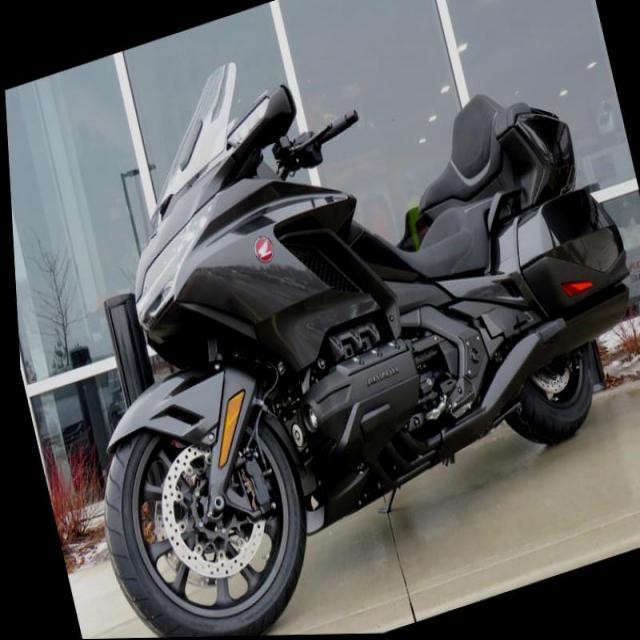Gold Wing: (6, 0, 639, 639)
